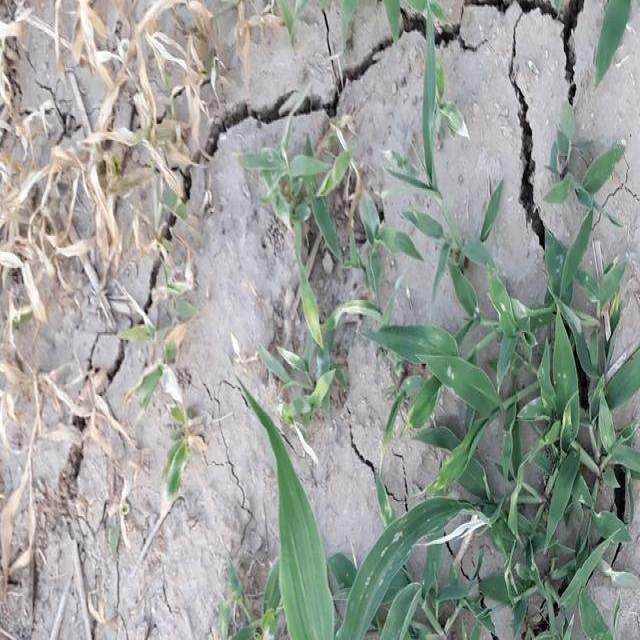weed: (372, 237, 632, 640)
